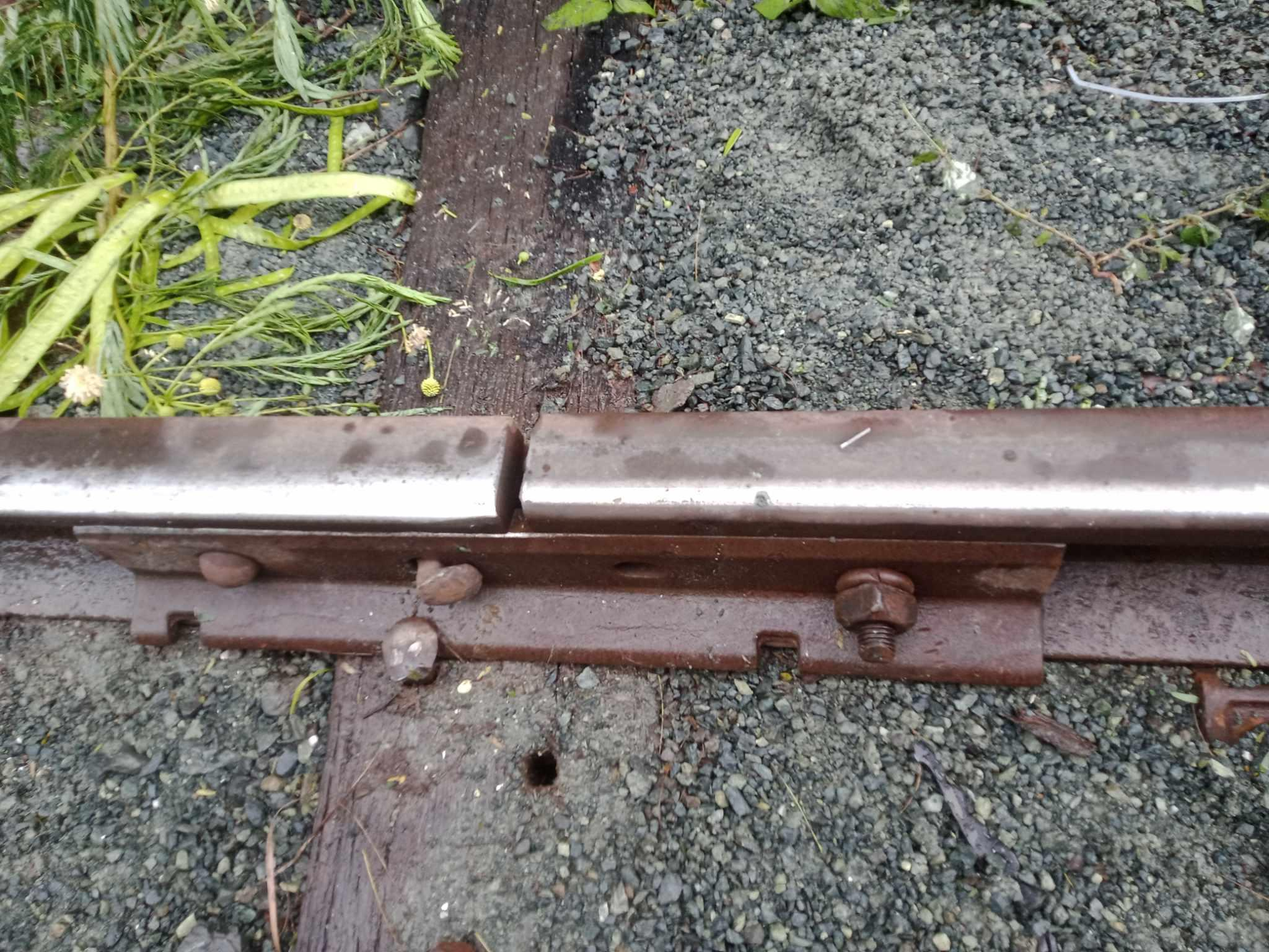railway-gap: (432, 387, 595, 554)
